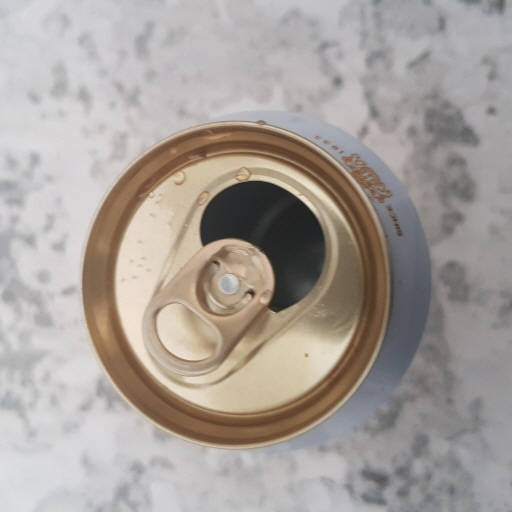Metal_0: (77, 107, 430, 449)
